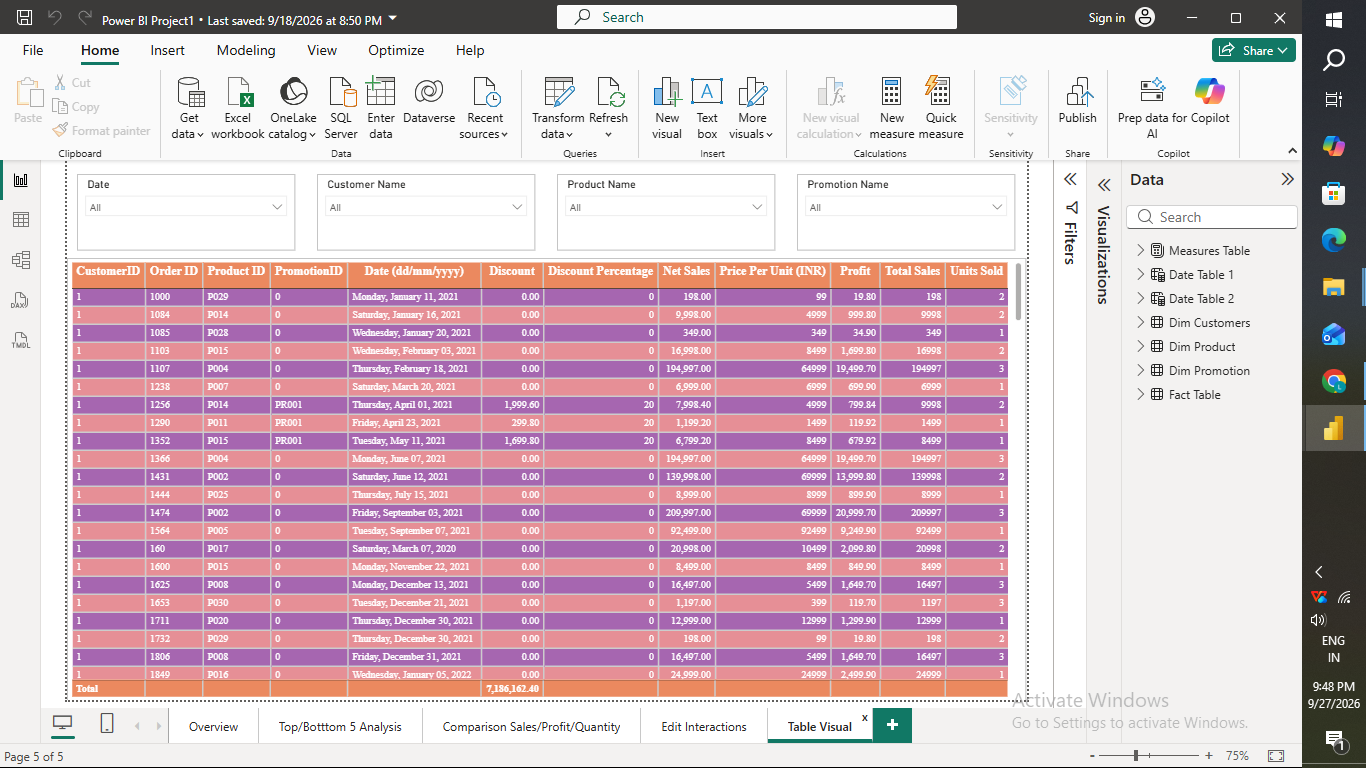

The dashboard page shown, as its layout file describes it:
{"tool":"powerbi","page":{"name":"Table Visual","canvas":[1280,720],"ordinal":4},"visuals":[{"type":"tableEx","fields":{"Values":["Fact Table.CustomerID","Fact Table.Order ID","Fact Table.Product ID","Fact Table.PromotionID","Fact Table.Date (dd/mm/yyyy)","Sum(Fact Table.Discount)","Fact Table.Discount Percentage","Fact Table.Net  Sales  ","Fact Table.Price Per Unit (INR)","Fact Table.Profit","Fact Table.Total Sales  ","Fact Table.Units Sold"]},"box":[0,130.2,1279.2,590.6],"z":0},{"type":"slicer","fields":{"Values":["Date Table 1.Date"]},"box":[13.2,18.9,290.6,101.9],"z":1000},{"type":"slicer","fields":{"Values":["Dim Customers.Customer Name"]},"box":[333.3,18.9,290.6,101.9],"z":2000},{"type":"slicer","fields":{"Values":["Dim Product.Product Name"]},"box":[653.5,18.9,290.6,101.9],"z":3000},{"type":"slicer","fields":{"Values":["Dim Promotion.Promotion Name"]},"box":[973.6,18.9,290.6,101.9],"z":4000}]}

Visuals, with their boxes on the page's 1280x720 design canvas (x1, y1, x2, y2). These are canvas units, not pixel positions in the 1366x768 screenshot, which may show the page scaled, cropped or inside an application window:
tableEx - Fact Table.CustomerID x Fact Table.Order ID: {"left": 0, "top": 130, "right": 1279, "bottom": 721}
slicer - Date Table 1.Date: {"left": 13, "top": 19, "right": 304, "bottom": 121}
slicer - Dim Customers.Customer Name: {"left": 333, "top": 19, "right": 624, "bottom": 121}
slicer - Dim Product.Product Name: {"left": 654, "top": 19, "right": 944, "bottom": 121}
slicer - Dim Promotion.Promotion Name: {"left": 974, "top": 19, "right": 1264, "bottom": 121}
